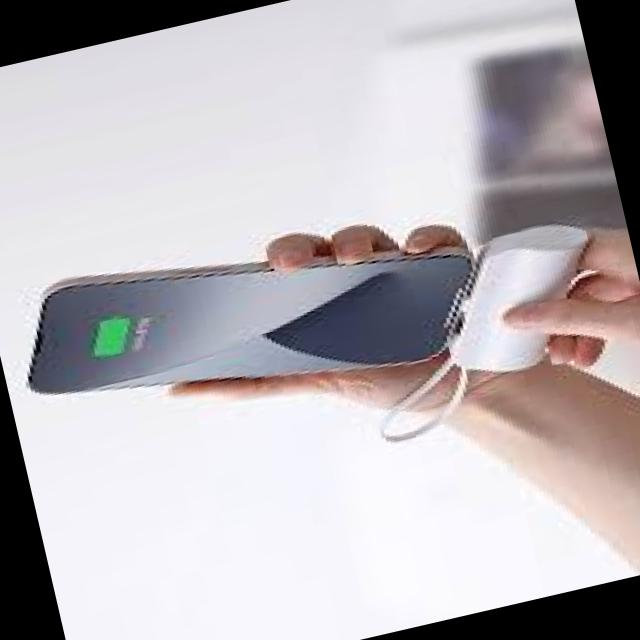portable-charger: (418, 208, 625, 382)
